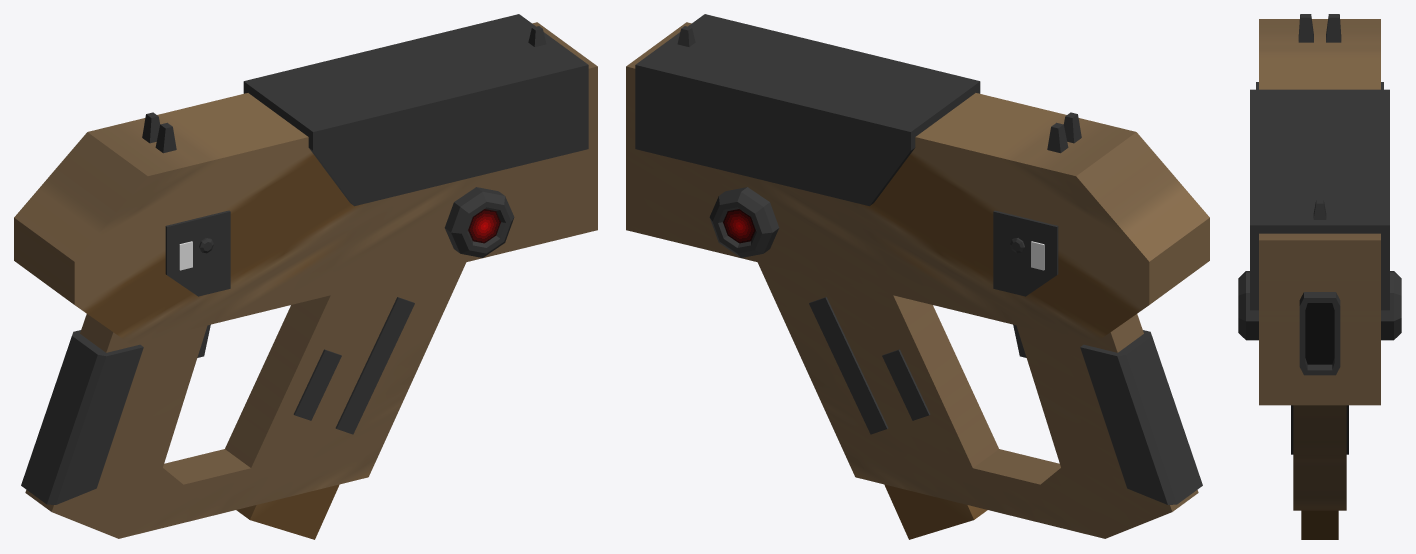
The model's file is Handgun_A_V3.FBX.
3 renders of one model, left to right at view 1: azimuth 30°, elevation 25°; view 2: azimuth 150°, elevation 25°; view 3: azimuth 270°, elevation 25°, orthographic.
Parts seen in each view (by area): view 1: Handgun_A_V3, Magazine; view 2: Handgun_A_V3, Magazine; view 3: Handgun_A_V3, Magazine.
Part boxes in pixels (x1,y1,x2,y2): Handgun_A_V3: [14, 14, 597, 538]; Magazine: [236, 484, 339, 539]; Handgun_A_V3: [626, 14, 1209, 538]; Magazine: [884, 484, 987, 539]; Handgun_A_V3: [1238, 14, 1401, 510]; Magazine: [1301, 510, 1338, 539].
Size of the model in its own units: 130 by 102 by 33.33.
